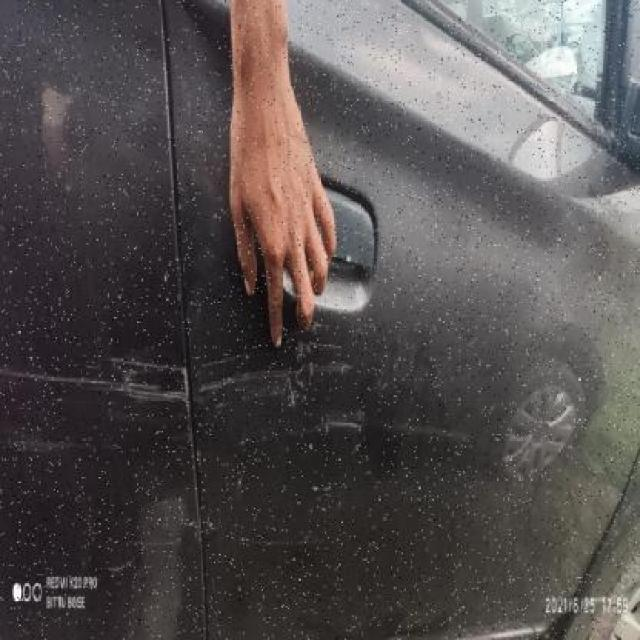doorouter-dent: (200, 3, 584, 627), (0, 0, 200, 624)
